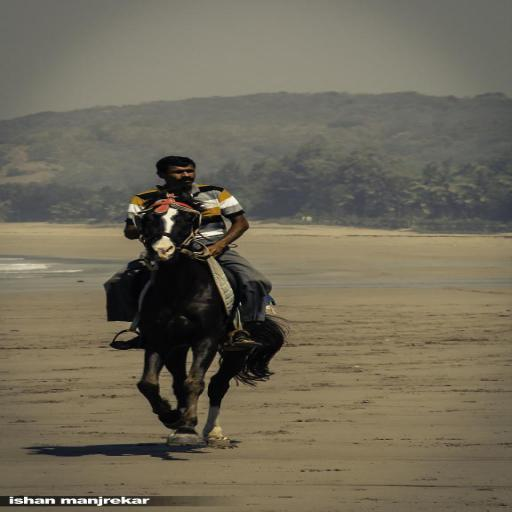horse: (137, 184, 287, 446)
